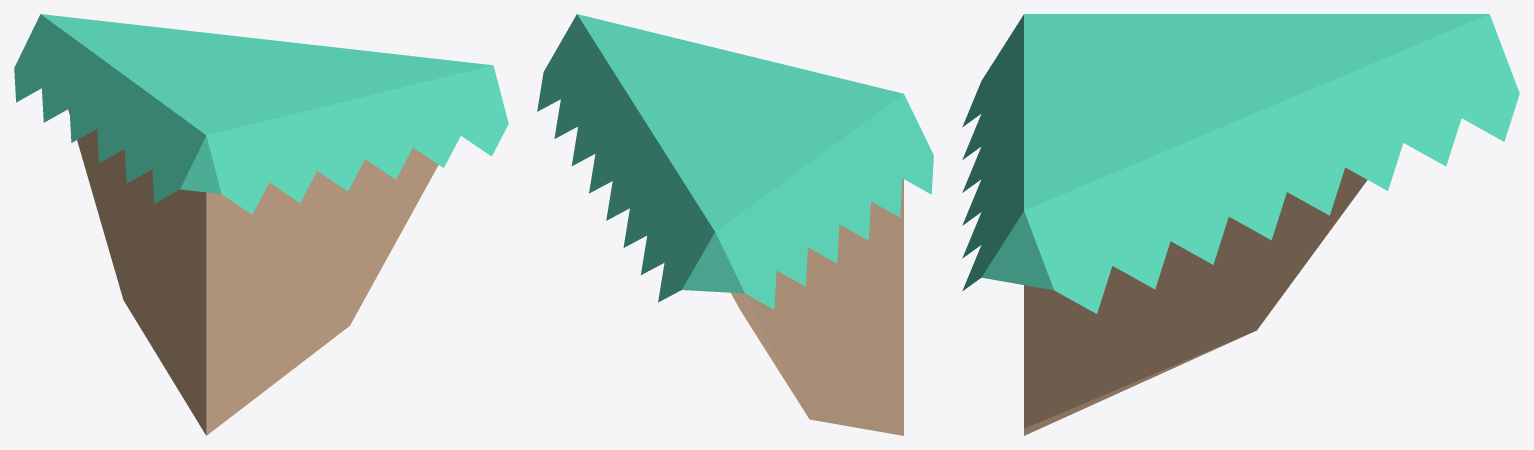
The model's file is blockCliffCorner.glb.
The picture shows the model from 3 angles, left to right: view 1: azimuth 30°, elevation 25°; view 2: azimuth 150°, elevation 25°; view 3: azimuth 270°, elevation 25°; orthographic projection. The views are drawn at different scales.
Parts seen in each view (by area): view 1: blockCliffCorner; view 2: blockCliffCorner; view 3: blockCliffCorner.
Part boxes in pixels (bbox=[...]): blockCliffCorner: bbox=[14, 14, 508, 435]; blockCliffCorner: bbox=[537, 14, 933, 435]; blockCliffCorner: bbox=[962, 14, 1519, 435].
Size of the model in its own units: 1.2 by 1 by 1.2.
